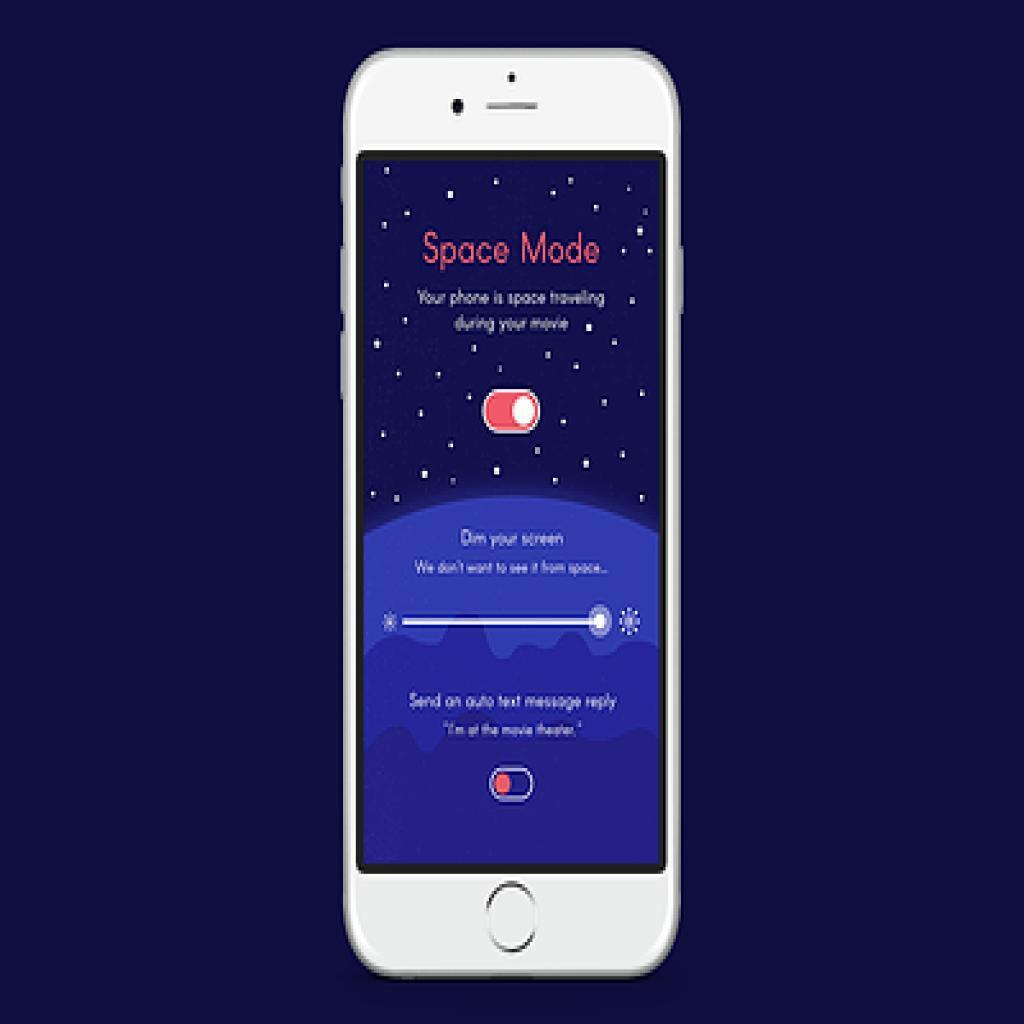slider: (382, 601, 651, 643)
switch: (479, 390, 545, 436), (490, 767, 536, 806)
